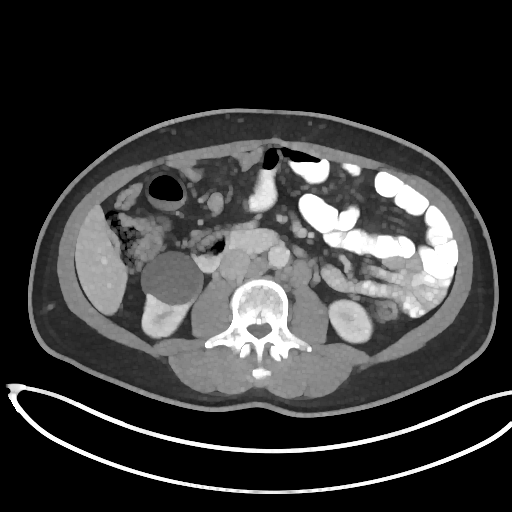Lesion: (138, 248, 206, 307)
